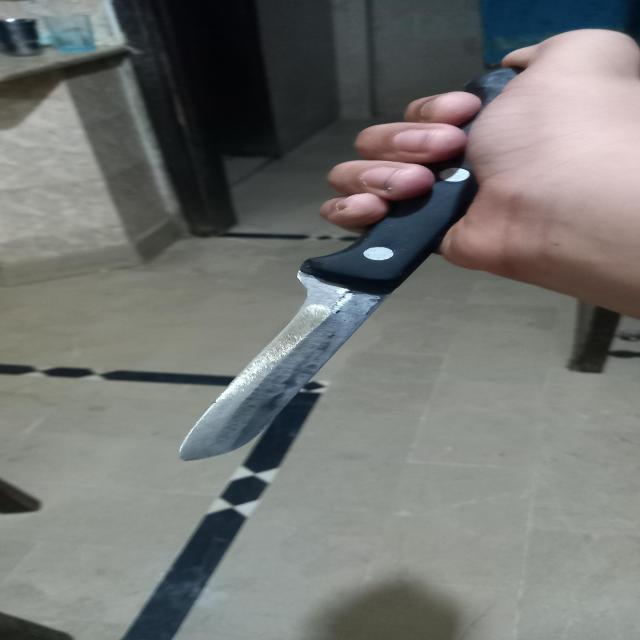faca: (175, 63, 532, 463)
